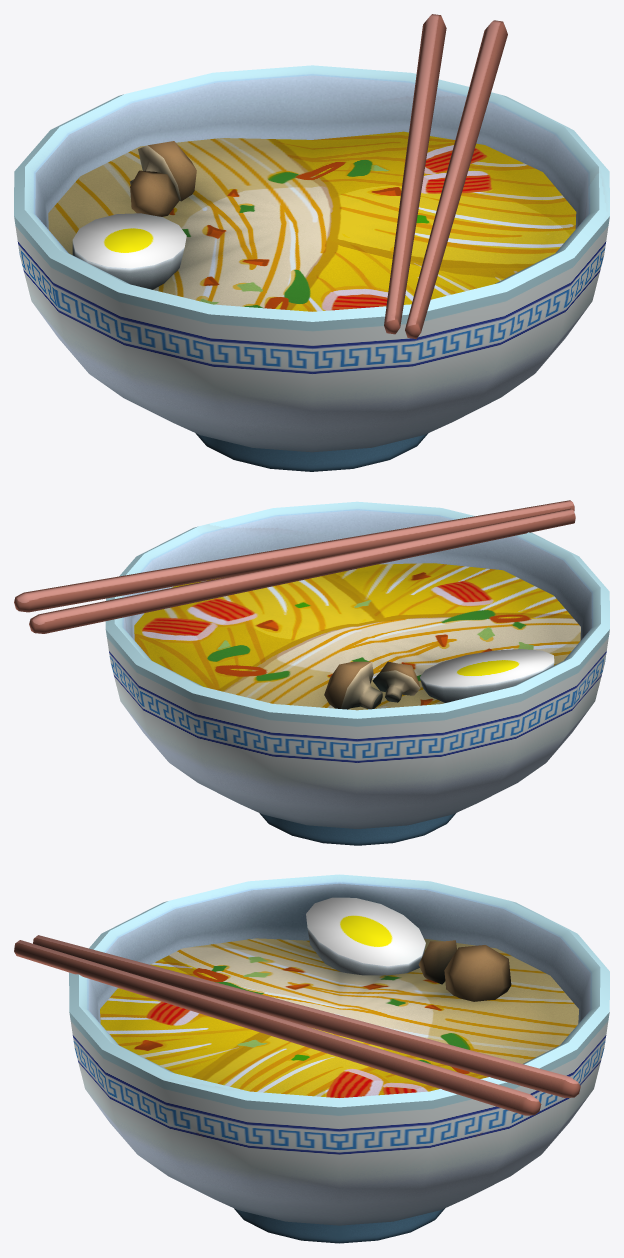
The model's file is Noodles.fbx.
3 views of the same model, one above another, from view 1: azimuth 30°, elevation 25°; view 2: azimuth 150°, elevation 25°; view 3: azimuth 270°, elevation 25° (orthographic). The views are drawn at different scales.
Parts seen in each view (by area): view 1: 044; view 2: 044; view 3: 044.
Part boxes in pixels (bbox=[...]): 044: bbox=[14, 14, 609, 471]; 044: bbox=[14, 500, 609, 845]; 044: bbox=[14, 874, 609, 1243].
Size of the model in its own units: 49.48 by 21.19 by 50.06.
1 material, 1 textured.
